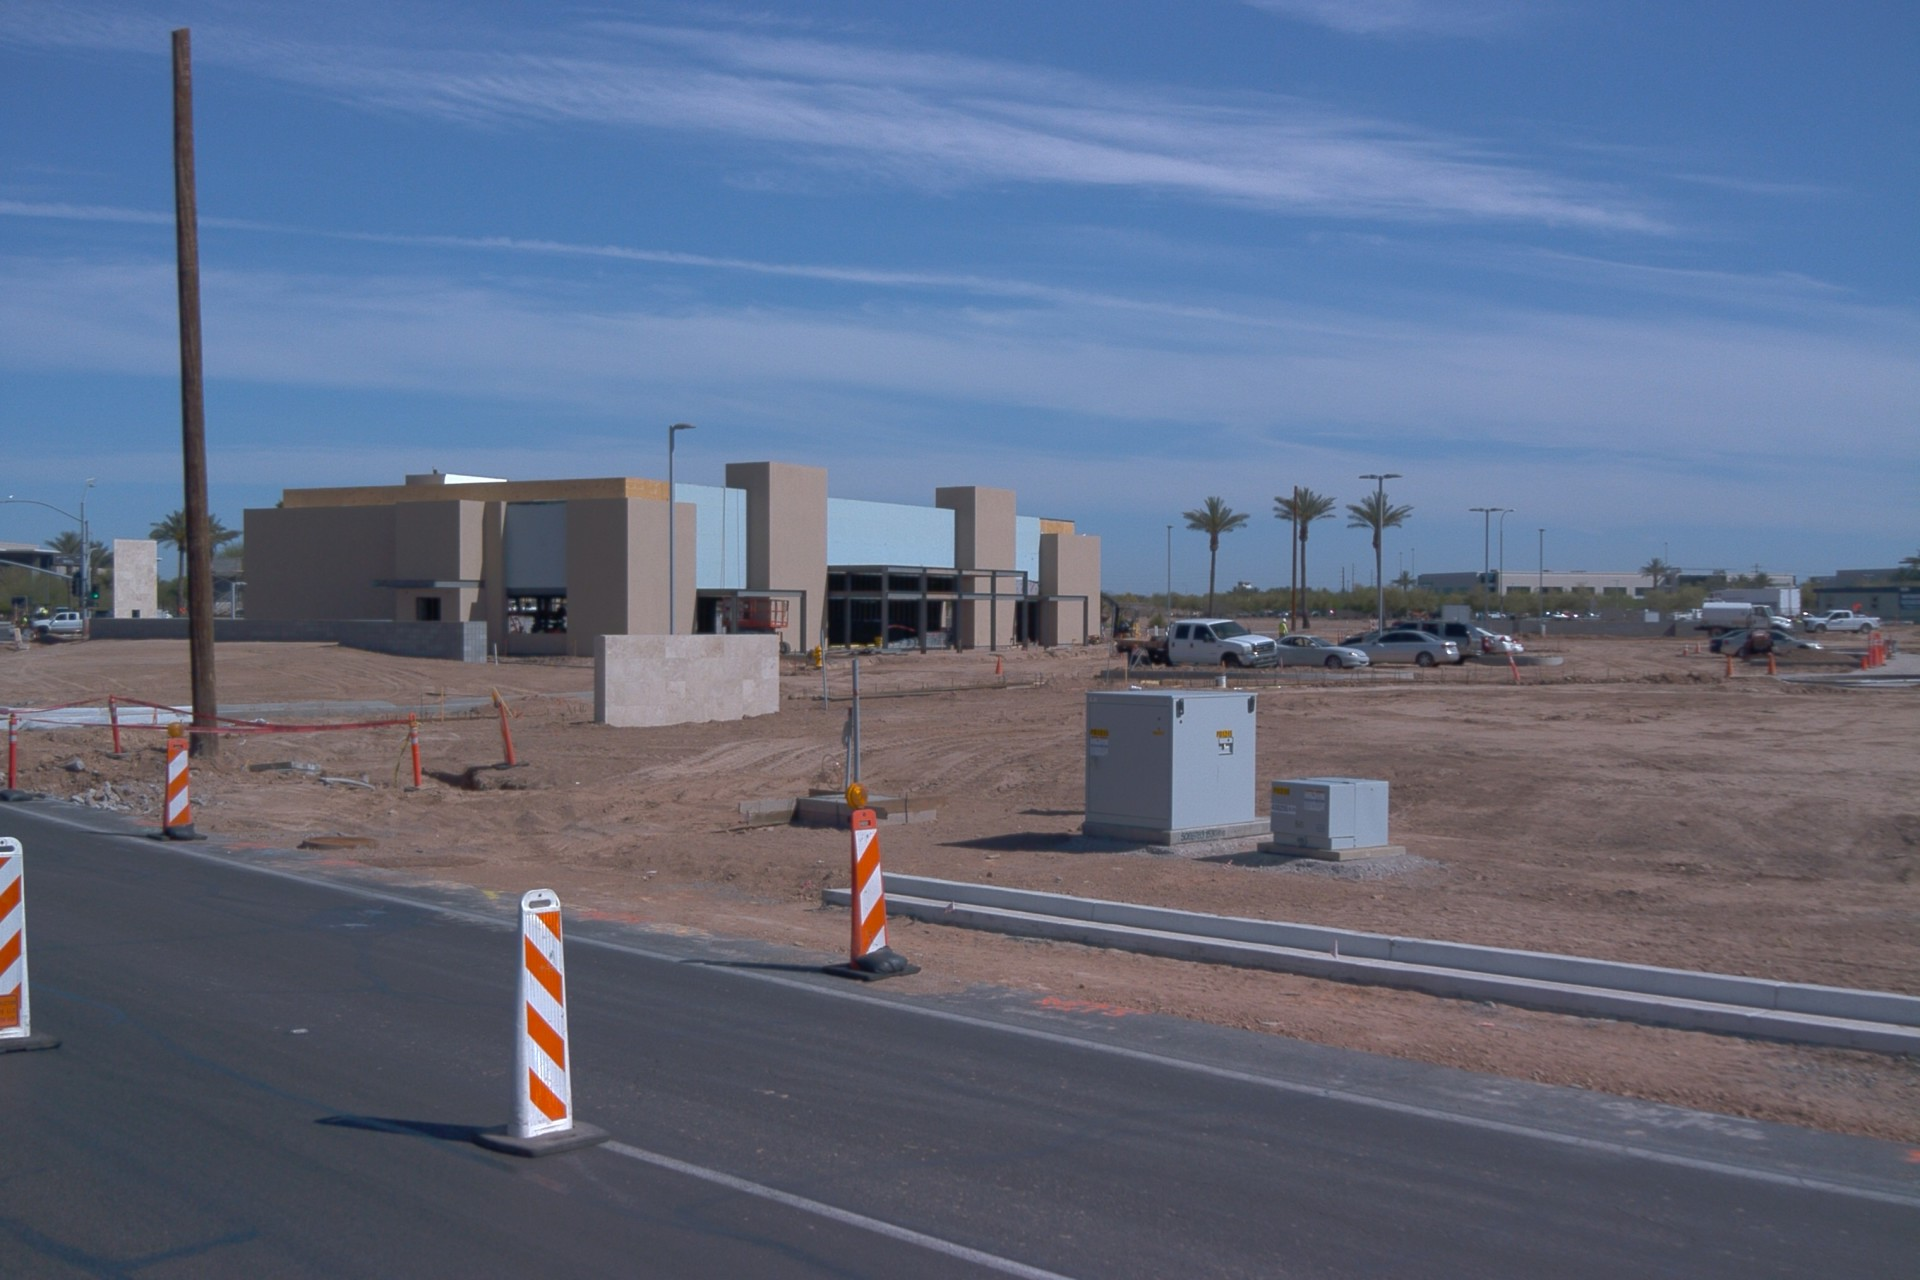TYPE_PEDESTRIAN: (1275, 615, 1293, 639), (1425, 616, 1432, 624)
TYPE_VEHICLE: (1114, 611, 1280, 670), (1387, 611, 1485, 669), (1343, 627, 1464, 668), (1694, 603, 1795, 643), (1276, 632, 1370, 671), (1717, 627, 1823, 659), (1803, 612, 1882, 636), (31, 611, 92, 637), (1708, 624, 1749, 657), (1473, 628, 1517, 653), (1481, 624, 1505, 657), (35, 597, 56, 613), (1508, 632, 1525, 649), (479, 605, 497, 616), (1487, 612, 1508, 620), (1402, 617, 1429, 623), (161, 609, 173, 620), (1473, 612, 1481, 622)
